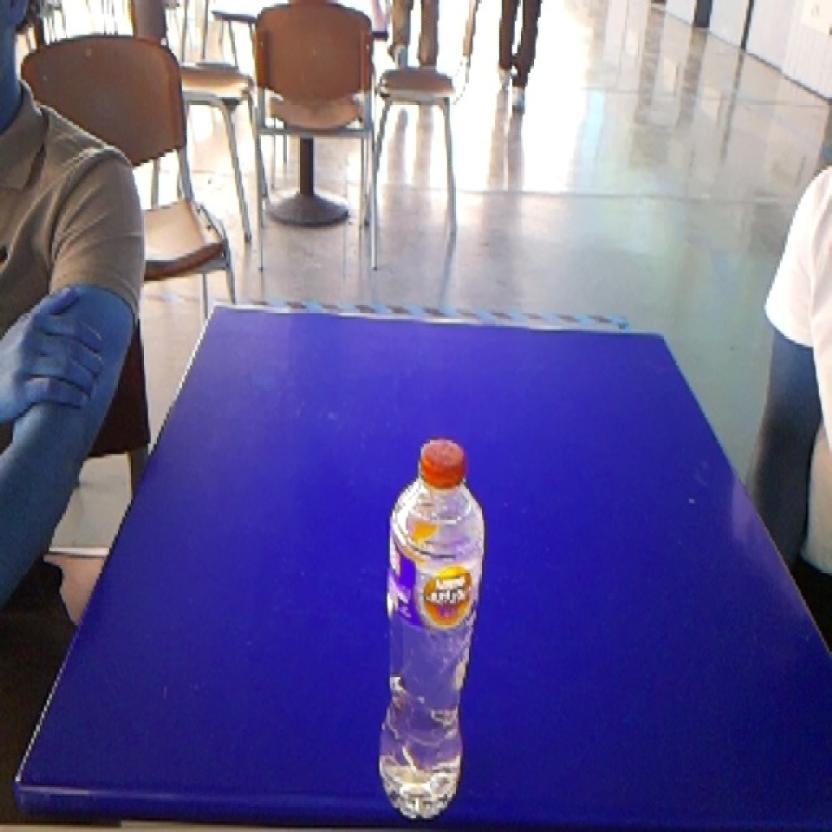good: (368, 427, 491, 832)
